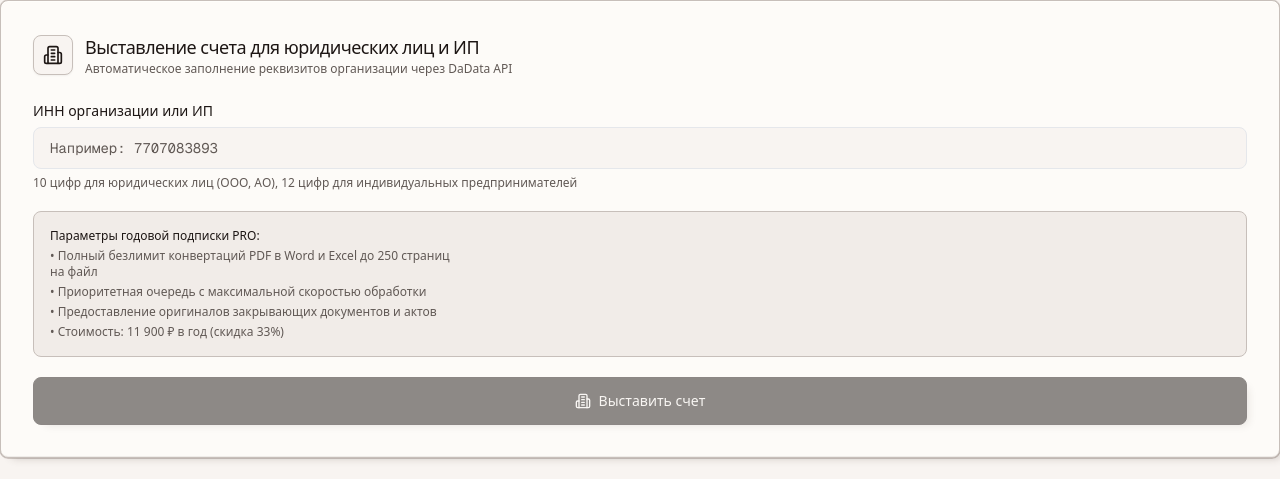
Test: B2BInvoiceForm › submits valid 10-digit INN and displays invoice details
Step 1. Type "7707083893" into the field with placeholder "Например: 7707083893" → {"x": 640, "y": 148}, box x1=33 y1=127 x2=1247 y2=169
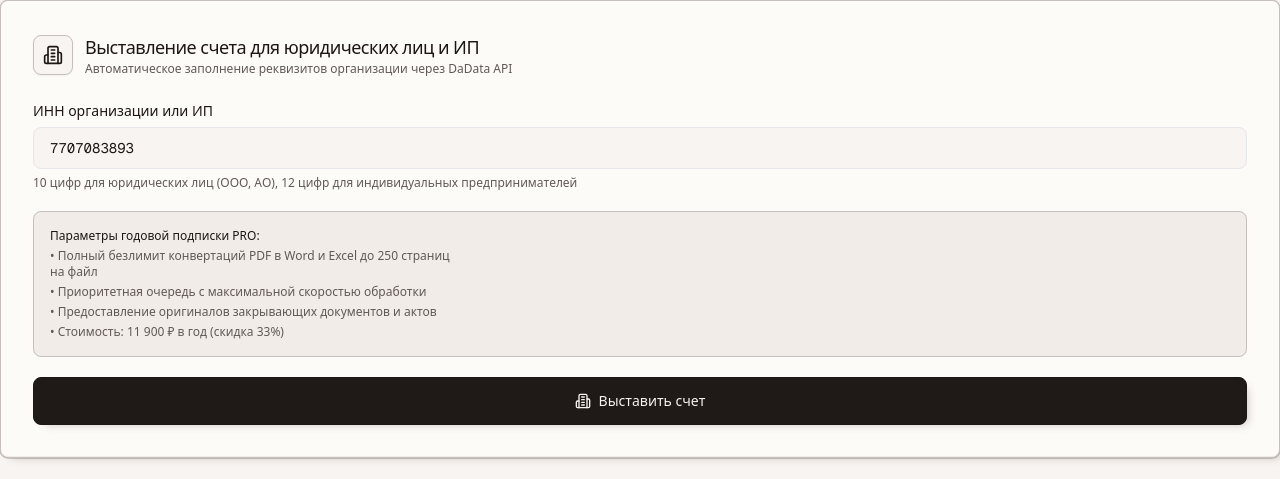
Now the button "Выставить счет" is enabled
Step 2. Click the button "Выставить счет" → {"x": 640, "y": 401}, box x1=33 y1=377 x2=1247 y2=425
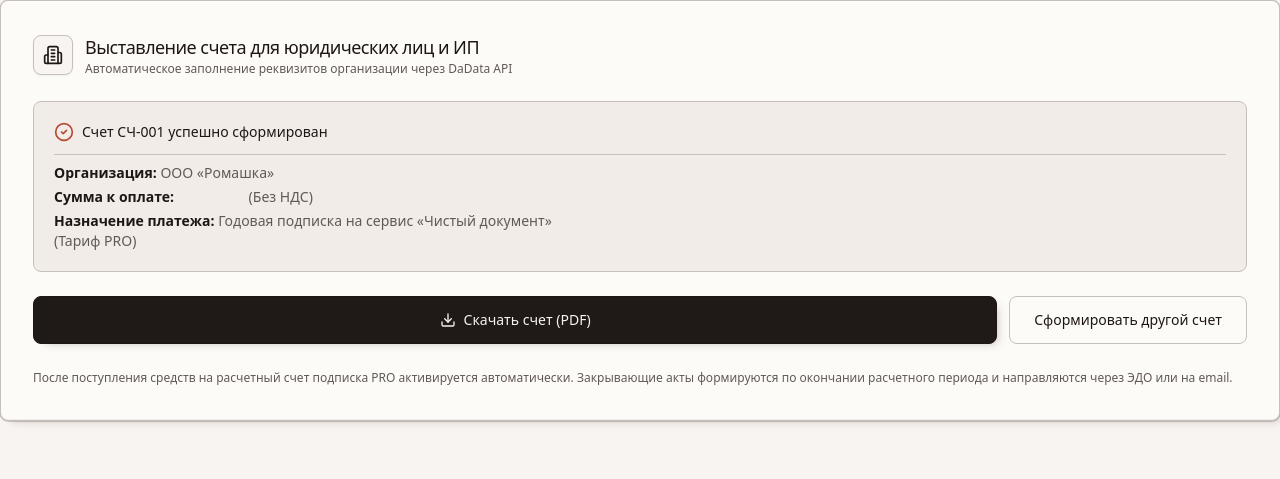
Now the text "Счет СЧ-001 успешно сформирован" is shown, box x1=82 y1=122 x2=328 y2=142
Now the text "ООО «Ромашка»" is shown, box x1=160 y1=163 x2=274 y2=182
